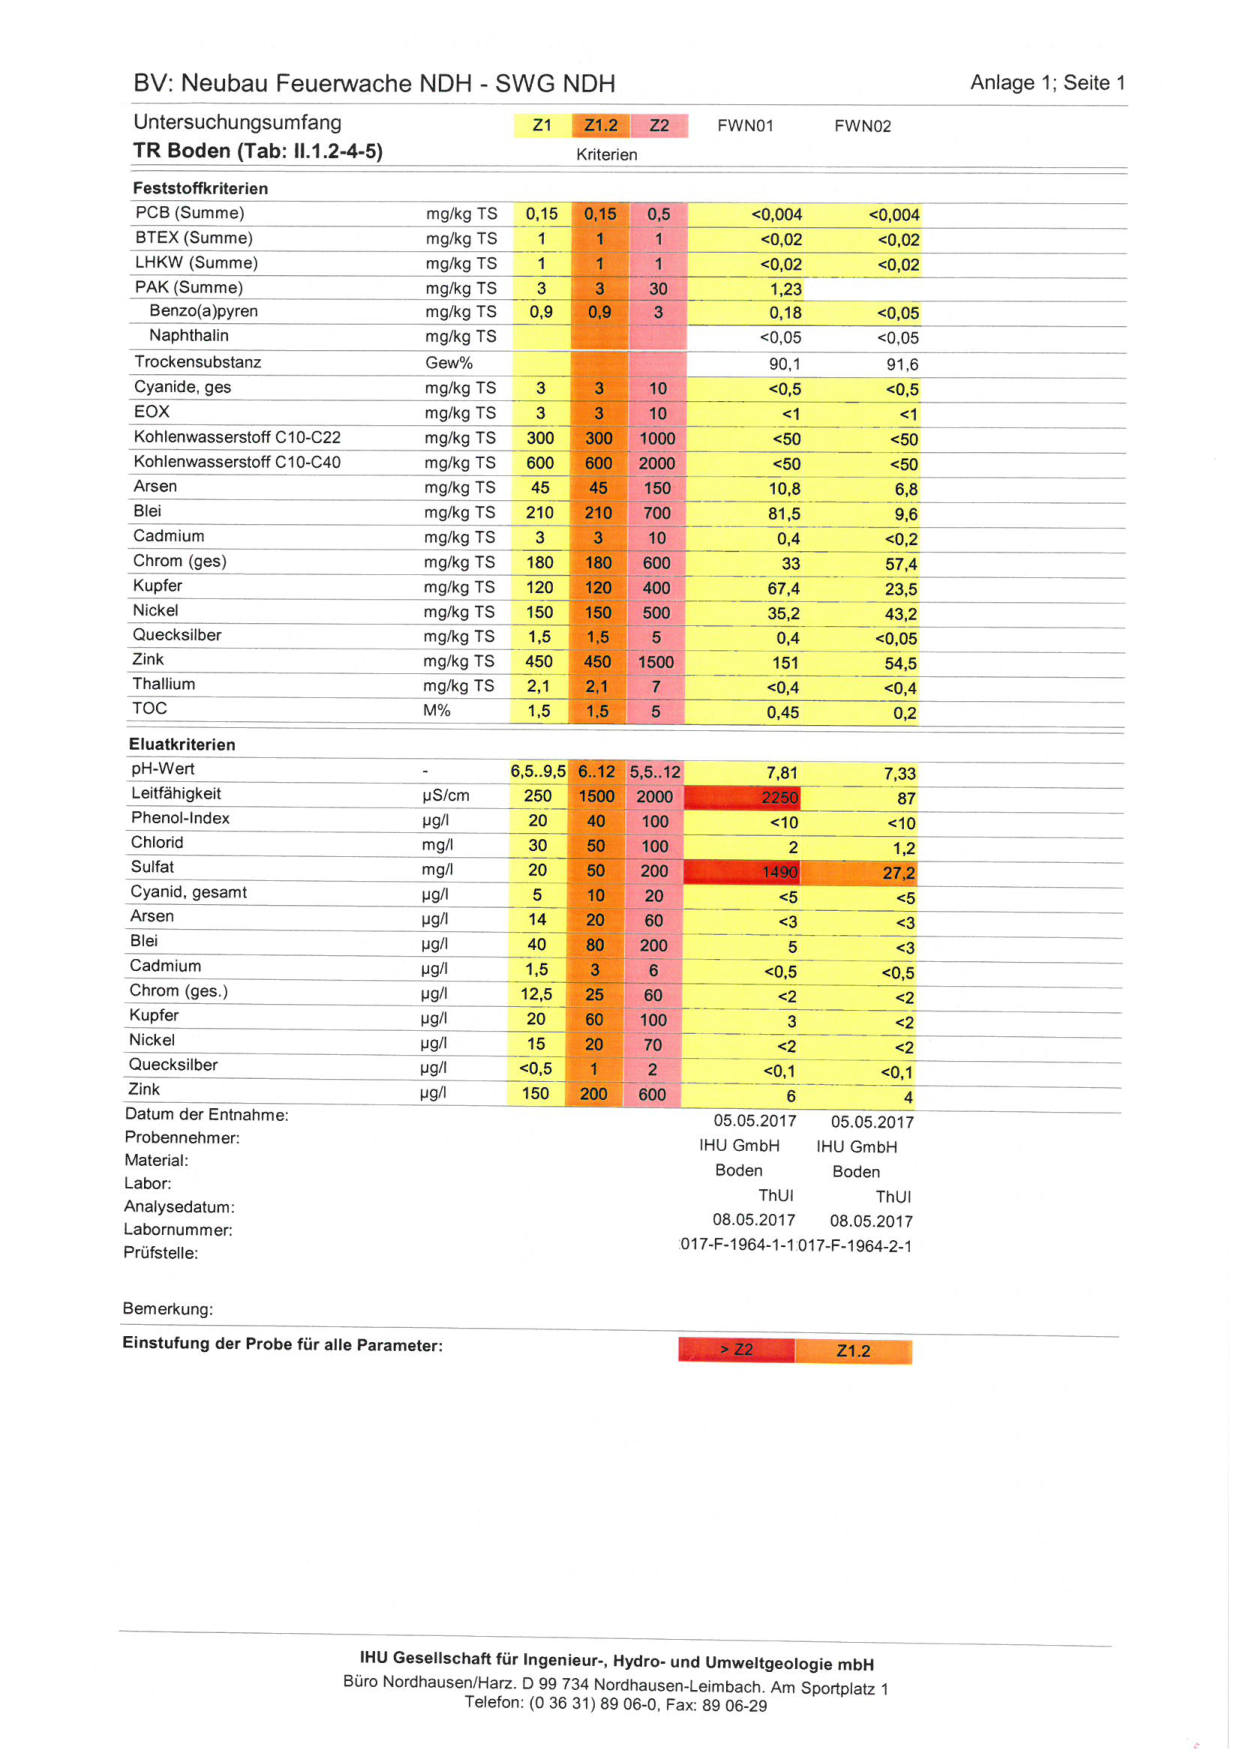table: (94, 170, 1117, 726), (107, 736, 927, 1111)
